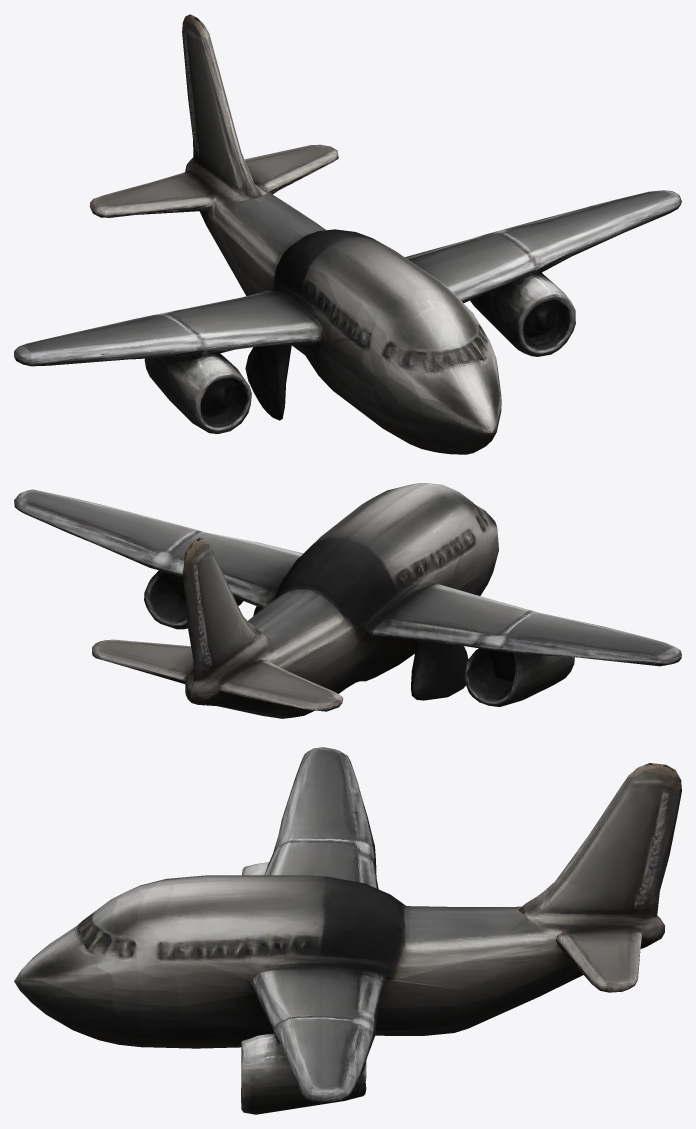
Rendered from airplane.glb.
The picture shows the model from 3 angles, top to bottom: view 1: azimuth 30°, elevation 25°; view 2: azimuth 150°, elevation 25°; view 3: azimuth 270°, elevation 25°; orthographic projection. The views are drawn at different scales.
Parts seen in each view (by area): view 1: world; view 2: world; view 3: world.
Part boxes in pixels (bbox=[...]): world: bbox=[14, 14, 681, 454]; world: bbox=[14, 483, 681, 718]; world: bbox=[14, 747, 681, 1114].
Size of the model in its own units: 0.9986 by 0.3709 by 0.8031.
Materials: 1 (1 with a texture image).
